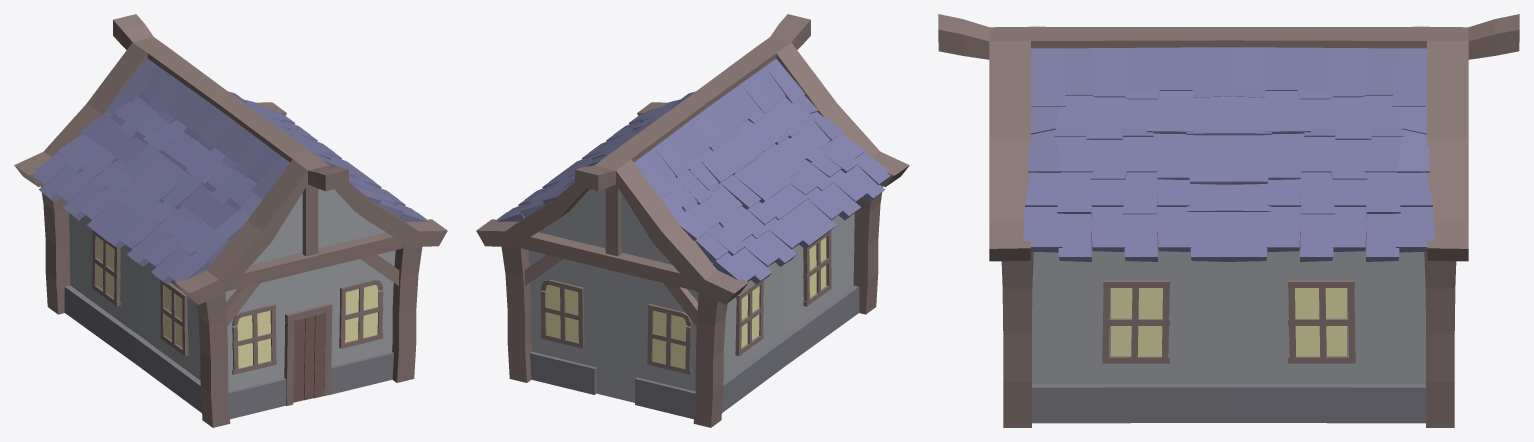
Rendered from Casa.fbx.
3 views of the same model, side by side, from view 1: azimuth 30°, elevation 25°; view 2: azimuth 150°, elevation 25°; view 3: azimuth 270°, elevation 25° (orthographic). The views are drawn at different scales.
Parts seen in each view (by area): view 1: Casa1; view 2: Casa1; view 3: Casa1.
Boxes of the visible parts, left/top/right/bottom form: Casa1: left=14, top=14, right=447, bottom=427; Casa1: left=476, top=14, right=909, bottom=427; Casa1: left=938, top=14, right=1519, bottom=427.
Bounding box in the file's own units: 5.91 × 5.39 × 8.37.
